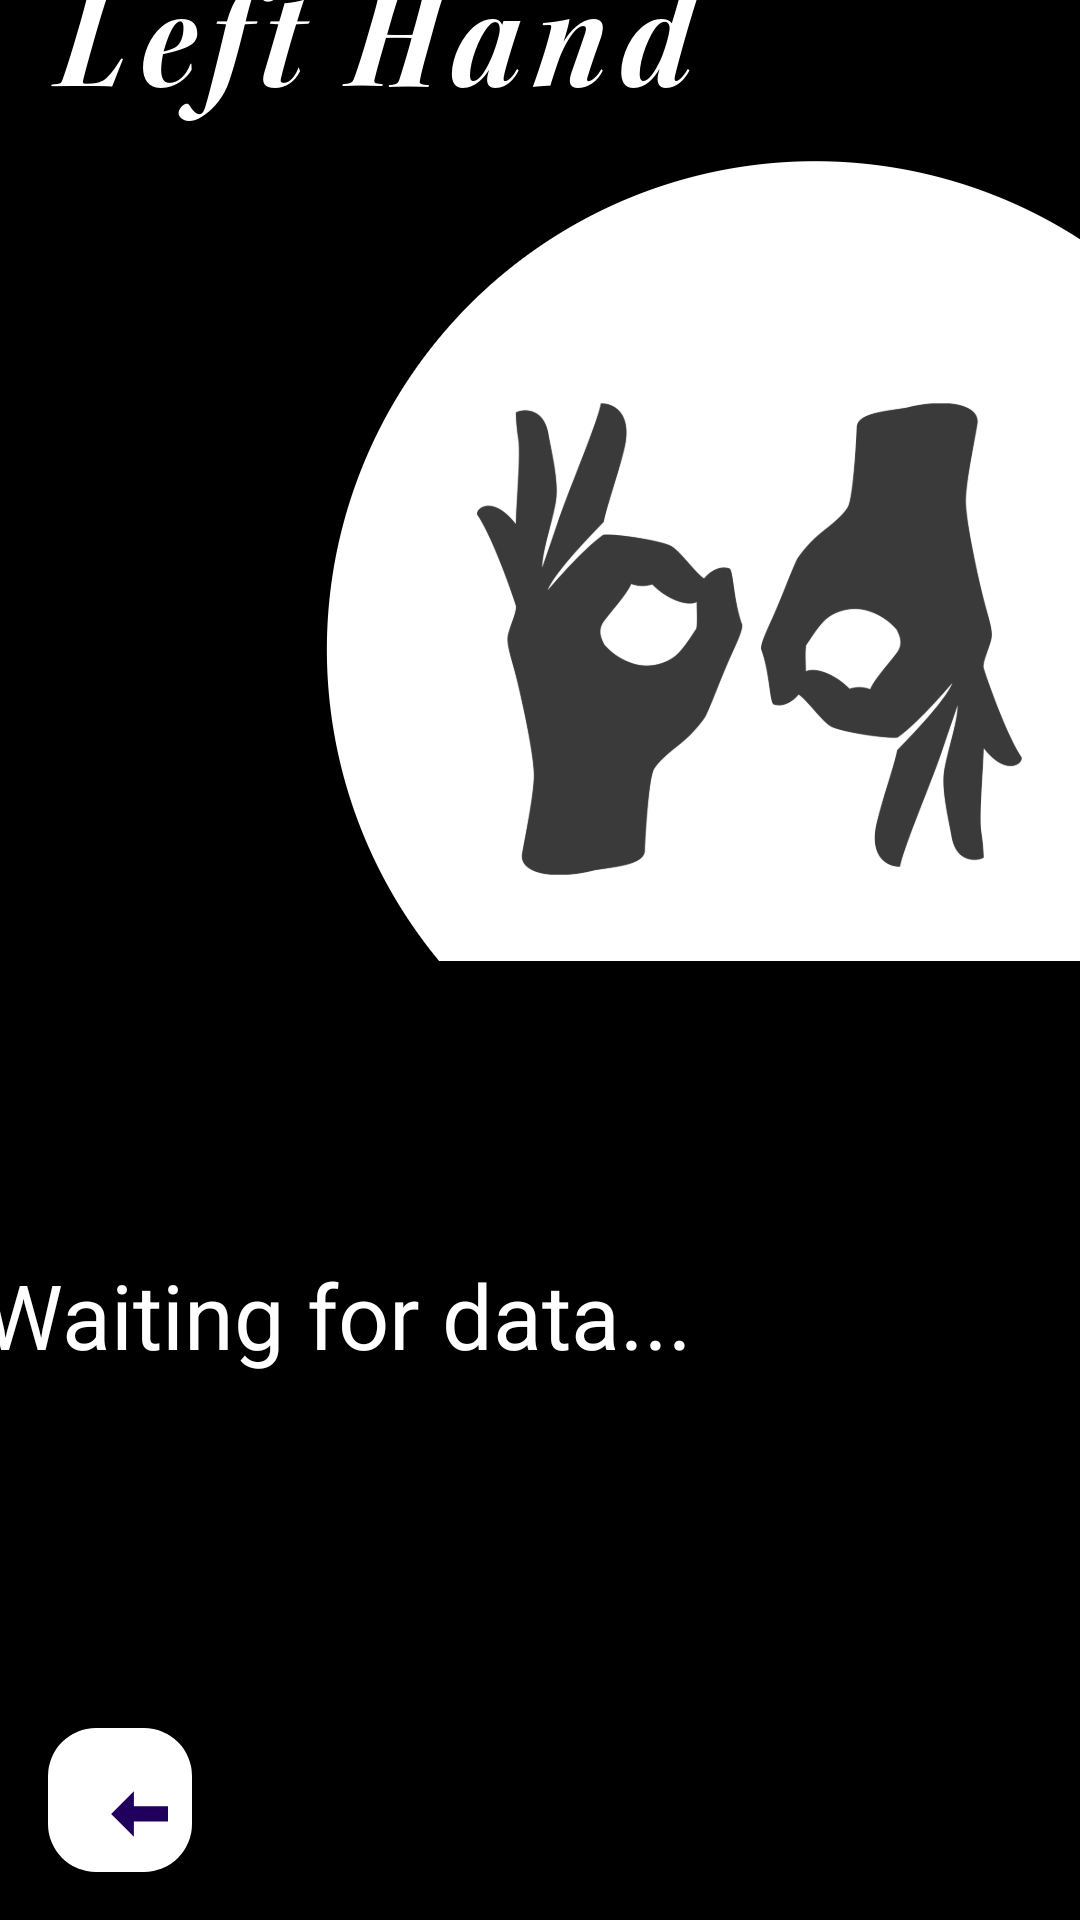

Where to tap for icons on this 1080 x 1920 app screen, as (x=x, y=y):
arrow back: (x=120, y=1800)
